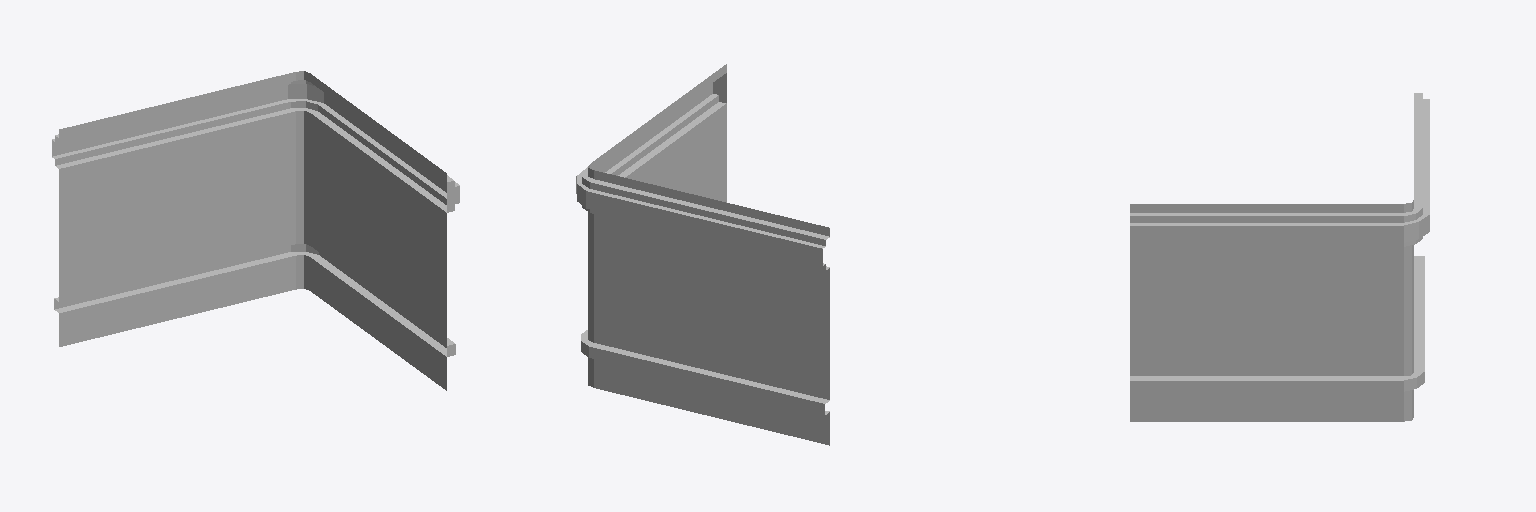
The model's file is apartment_corner.obj.
3 renders of one model, left to right at view 1: azimuth 30°, elevation 25°; view 2: azimuth 150°, elevation 25°; view 3: azimuth 270°, elevation 25°, orthographic.
Visible parts, largest first — view 1: polySurface18; view 2: polySurface18; view 3: polySurface18.
Part boxes in pixels (left/top/right/bottom): polySurface18: left=52, top=71, right=459, bottom=390; polySurface18: left=576, top=64, right=829, bottom=445; polySurface18: left=1130, top=93, right=1429, bottom=421.
Bounding box in the file's own units: 560 × 449 × 559.